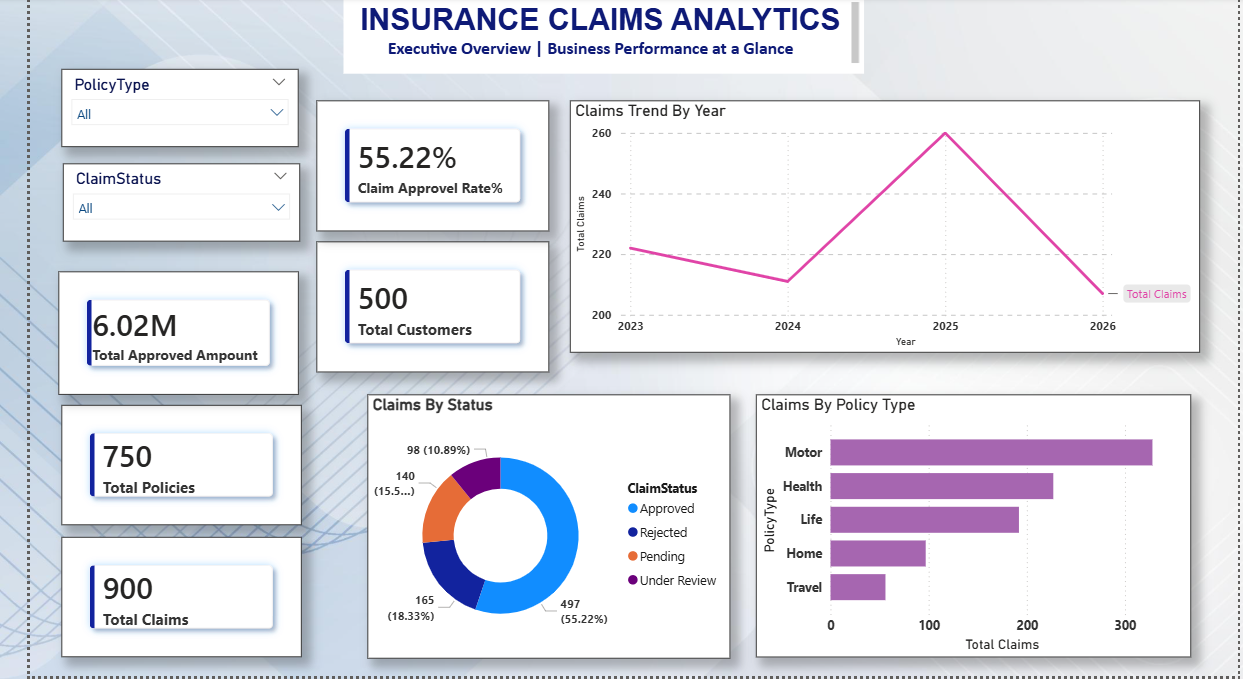

This screenshot's page, from the dashboard's own definition file:
{"tool":"powerbi","page":{"name":"Executive Overview","canvas":[1280,720],"ordinal":0},"visuals":[{"type":"cardVisual","fields":{"Data":["Policies.Total_customers"]},"box":[303.8,259.3,246.5,138.4],"z":0},{"type":"cardVisual","fields":{"Data":["Policies.total_policies"]},"box":[33.4,432.6,254.5,127.2],"z":1000},{"type":"cardVisual","fields":{"Data":["Policies.total_claims"]},"box":[33.4,572.6,254.5,127.2],"z":2000},{"type":"cardVisual","fields":{"Data":["Claims.claim_approvel_rate%"]},"box":[303.8,109.8,246.5,138.4],"z":3000},{"type":"donutChart","title":"Claims By Status","fields":{"Category":["Claims.ClaimStatus"],"Y":["CountNonNull(Claims.ClaimID)"]},"box":[357.9,421.5,384.9,279.9],"z":4000},{"type":"lineChart","title":"Claims Trend By Year","fields":{"Category":["Claims.ClaimDate.Variation.Date Hierarchy.Year","Claims.ClaimDate.Variation.Date Hierarchy.Month"],"Y":["Policies.Total_claims"]},"box":[572.6,109.8,668.1,267.2],"z":5000},{"type":"clusteredBarChart","title":"Claims By Policy Type","fields":{"Category":["Policies.PolicyType"],"Y":["Policies.Total_claims"]},"box":[769.9,421.5,461.3,278.4],"z":6000},{"type":"cardVisual","fields":{"Data":["Claims.total_approved_Amt"]},"box":[30.2,291.1,254.5,130.4],"z":7000},{"type":"textbox","box":[332.4,0,551.9,81.1],"z":8000},{"type":"slicer","fields":{"Values":["Policies.PolicyType"]},"box":[33.4,76.3,251.3,82.7],"z":9000},{"type":"slicer","fields":{"Values":["Claims.ClaimStatus"]},"box":[35,176.6,251.3,82.7],"z":10000}]}

Visuals, with their boxes in screenshot pixels (x1, y1, x2, y2), scaled from the page's 1280x720 canvas onto the 1243x679 screenshot:
cardVisual - Policies.Total_customers: detection(295, 245, 534, 375)
cardVisual - Policies.total_policies: detection(32, 408, 280, 528)
cardVisual - Policies.total_claims: detection(32, 540, 280, 660)
cardVisual - Claims.claim_approvel_rate%: detection(295, 104, 534, 234)
"Claims By Status" donutChart: detection(348, 397, 721, 661)
"Claims Trend By Year" lineChart: detection(556, 104, 1205, 356)
"Claims By Policy Type" clusteredBarChart: detection(748, 397, 1196, 660)
cardVisual - Claims.total_approved_Amt: detection(29, 275, 276, 397)
textbox: detection(323, 0, 859, 76)
slicer - Policies.PolicyType: detection(32, 72, 276, 150)
slicer - Claims.ClaimStatus: detection(34, 167, 278, 245)
